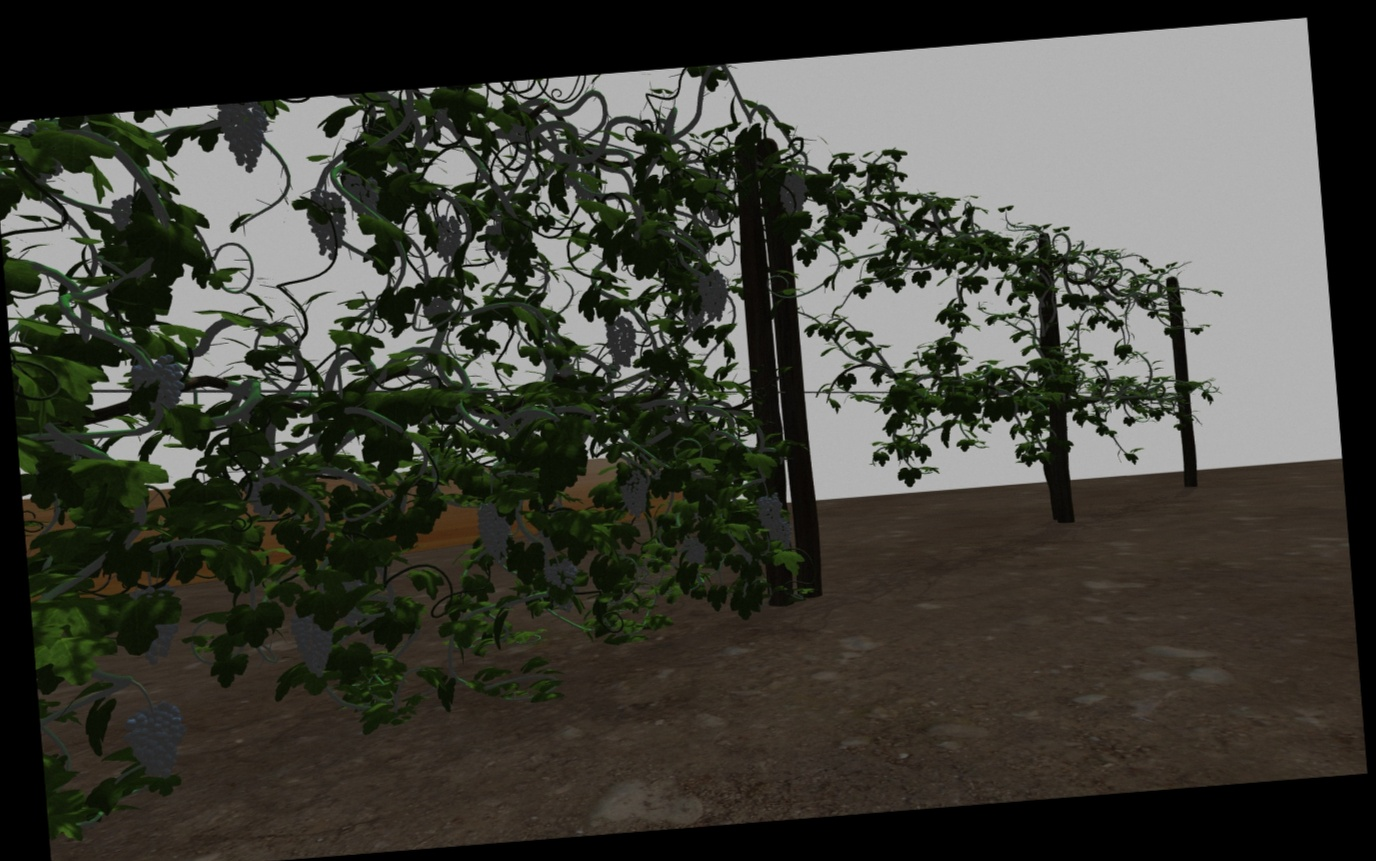grape: (122, 701, 185, 779), (129, 352, 185, 425), (219, 105, 269, 172), (290, 608, 336, 678), (307, 189, 348, 260), (476, 502, 511, 561), (604, 315, 638, 368), (429, 214, 463, 264), (345, 170, 381, 217), (698, 271, 729, 322), (619, 469, 651, 518), (777, 170, 806, 215), (541, 557, 577, 591), (756, 493, 783, 531), (680, 539, 707, 564), (768, 522, 792, 550)
